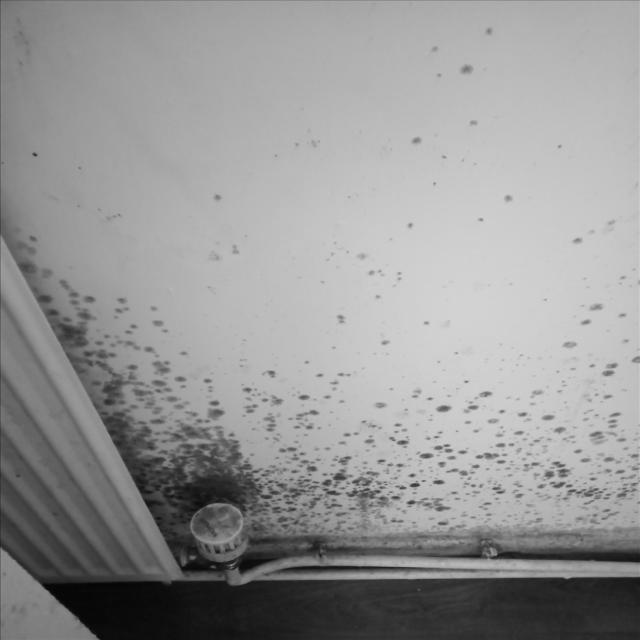pin holes: (25, 142, 43, 162)
stain marks: (145, 298, 640, 576), (9, 227, 262, 573), (371, 27, 546, 205), (423, 158, 531, 250), (33, 138, 134, 223), (557, 213, 640, 300), (334, 230, 418, 295), (0, 0, 60, 88), (256, 122, 328, 168), (382, 213, 444, 246), (205, 185, 229, 208)
